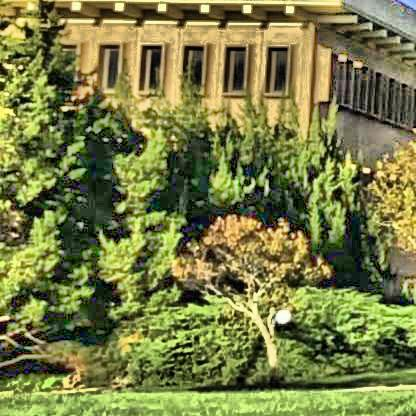golfball: (272, 304, 289, 323)
